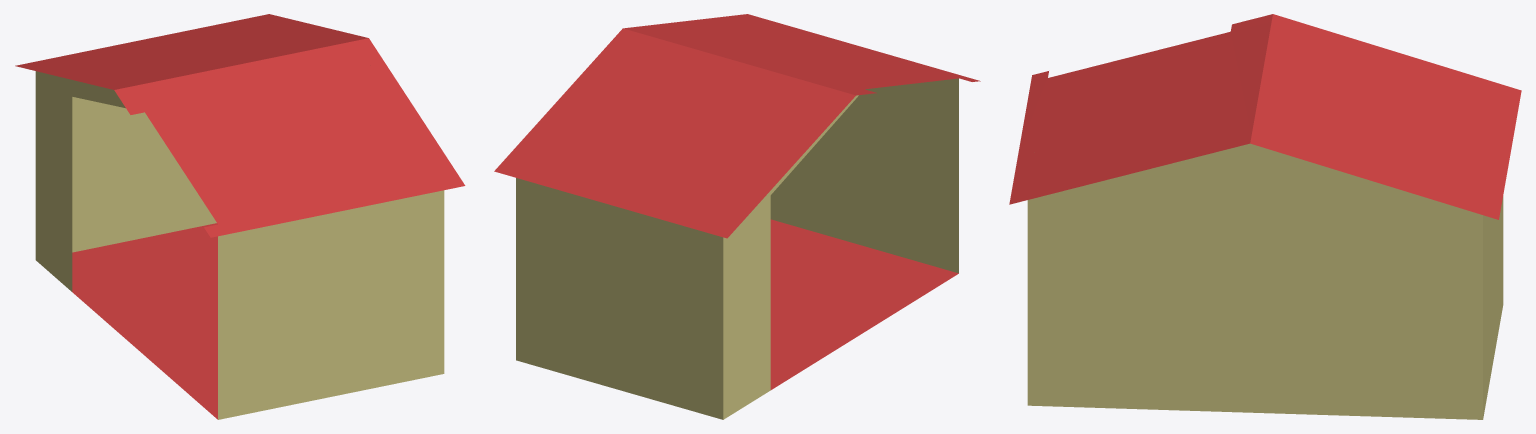
The picture shows the model from 3 angles, left to right: view 1: azimuth 30°, elevation 25°; view 2: azimuth 150°, elevation 25°; view 3: azimuth 270°, elevation 25°; orthographic projection. The views are drawn at different scales.
Size of the model in its own units: 10.01 by 14.96 by 8.9.
